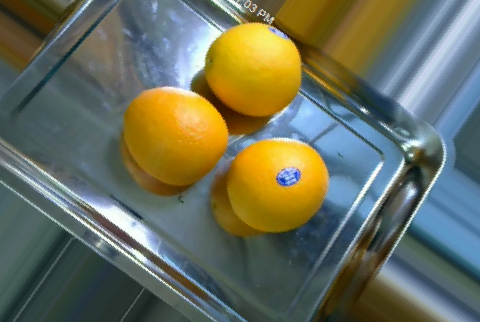Orange: (123, 85, 228, 187), (227, 136, 329, 233), (204, 22, 301, 117)
